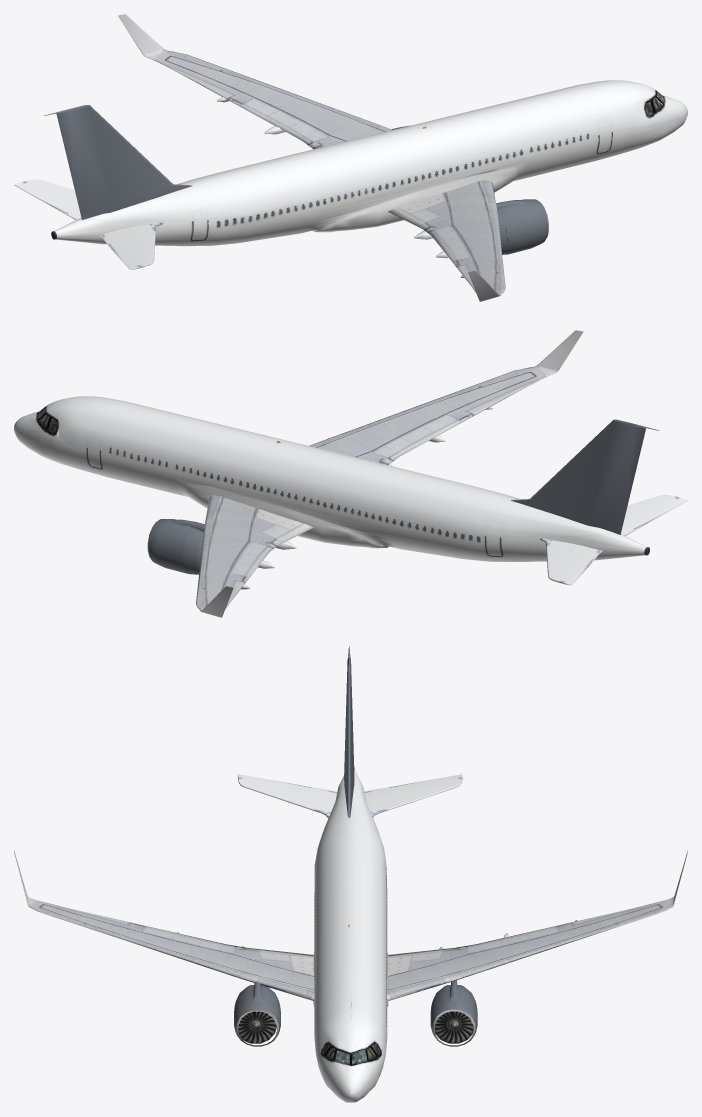
Rendered from a320-atplvector.glb.
3 renders of one model, top to bottom at view 1: azimuth 30°, elevation 25°; view 2: azimuth 150°, elevation 25°; view 3: azimuth 270°, elevation 25°, orthographic. The views are drawn at different scales.
Parts seen in each view (by area): view 1: airplane; view 2: airplane; view 3: airplane.
Boxes of the visible parts, x1=… form: airplane: x1=14, y1=14, x2=687, y2=301; airplane: x1=14, y1=330, x2=687, y2=617; airplane: x1=14, y1=646, x2=687, y2=1102.
Size of the model in its own units: 37.68 by 11.32 by 35.48.
1 material, 1 textured.
